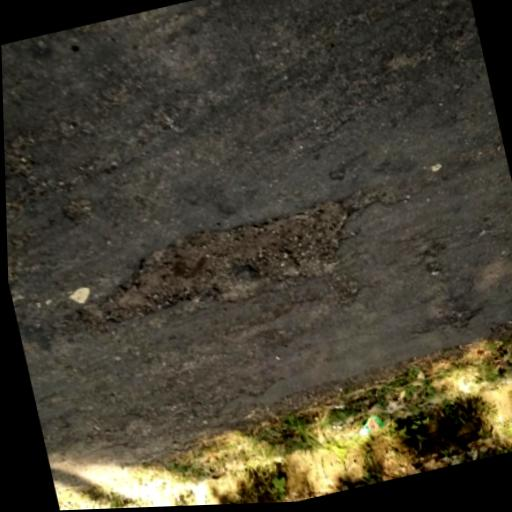pothole: (62, 189, 371, 341), (413, 305, 485, 340)
